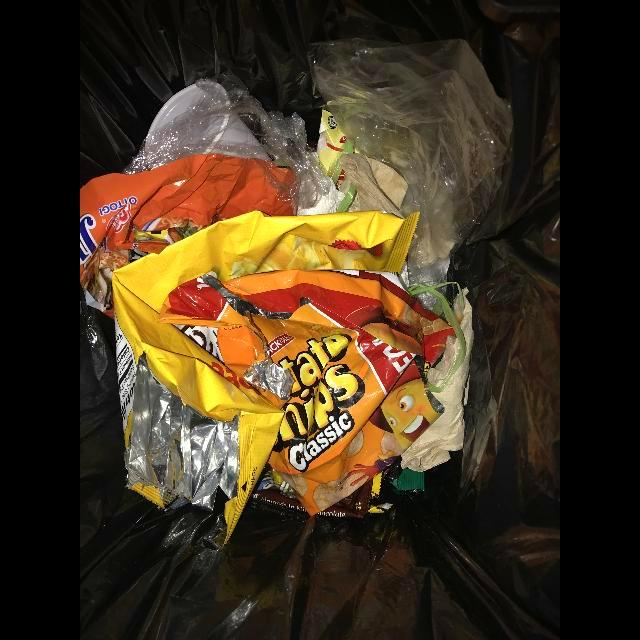food_wrapper: (111, 211, 419, 546), (159, 270, 455, 515), (80, 154, 295, 319)
paper: (400, 297, 474, 473)
plastic_bag: (310, 38, 513, 262), (122, 80, 335, 210)
